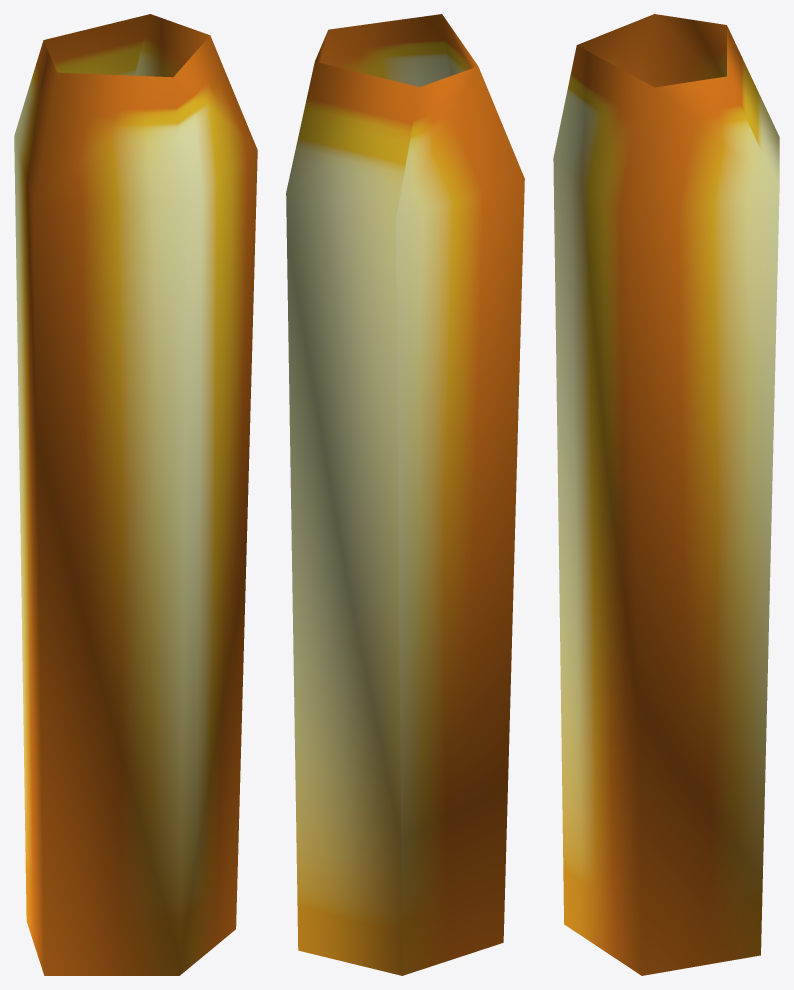
The model's file is fireline.FBX.
3 views of the same model, side by side, from view 1: azimuth 30°, elevation 25°; view 2: azimuth 150°, elevation 25°; view 3: azimuth 270°, elevation 25° (orthographic).
Parts seen in each view (by area): view 1: Plane14; view 2: Plane14; view 3: Plane14.
Part boxes in pixels (x1,y1,x2,y2): Plane14: (14, 14, 257, 975); Plane14: (286, 14, 524, 975); Plane14: (553, 14, 779, 975).
Bounding box in the file's own units: 1.03 × 3.95 × 0.9146.
